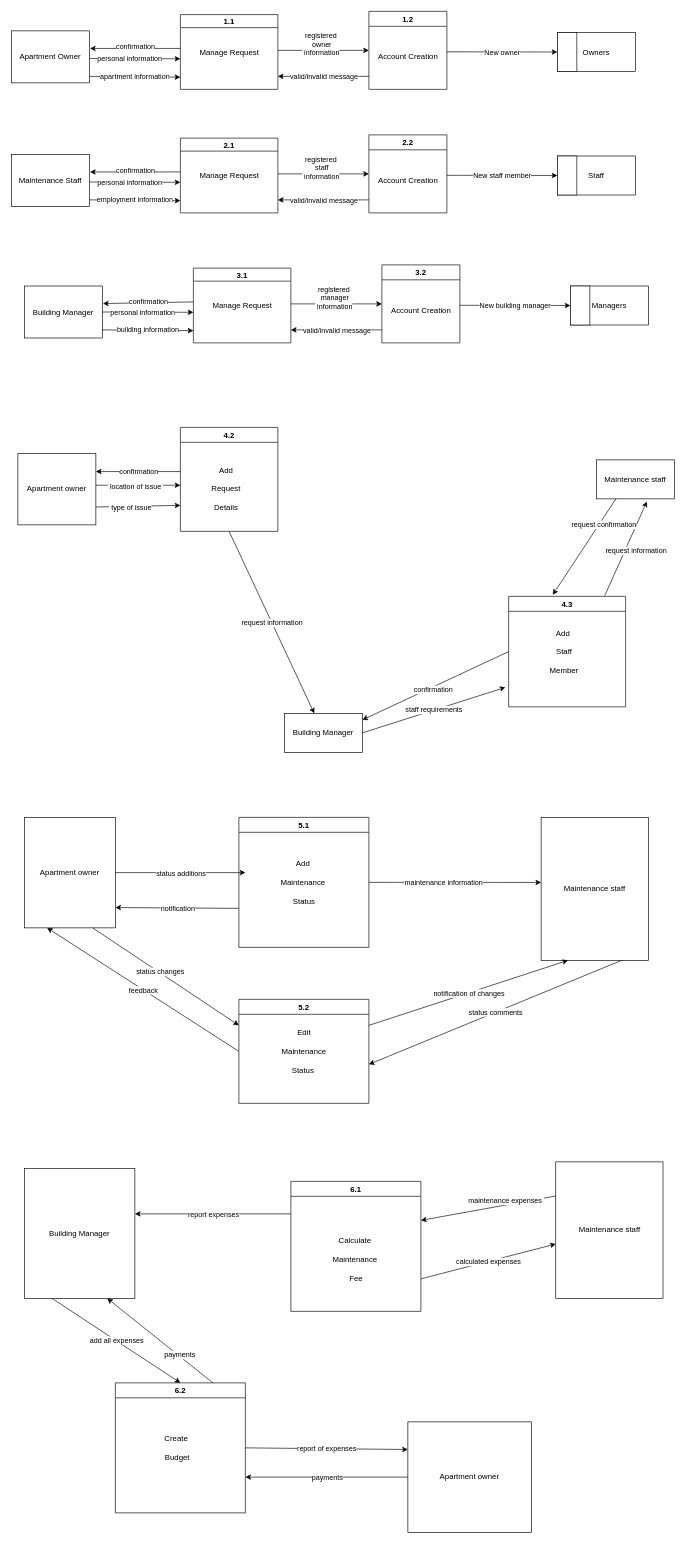
The diagram is 686 pixels wide and 1544 high, and some of its shapes have lost their labels. The centre of each missing label's shape, as x and y in pixels:
D1: (x=567, y=52)
D2: (x=567, y=175)
D3: (x=580, y=305)
